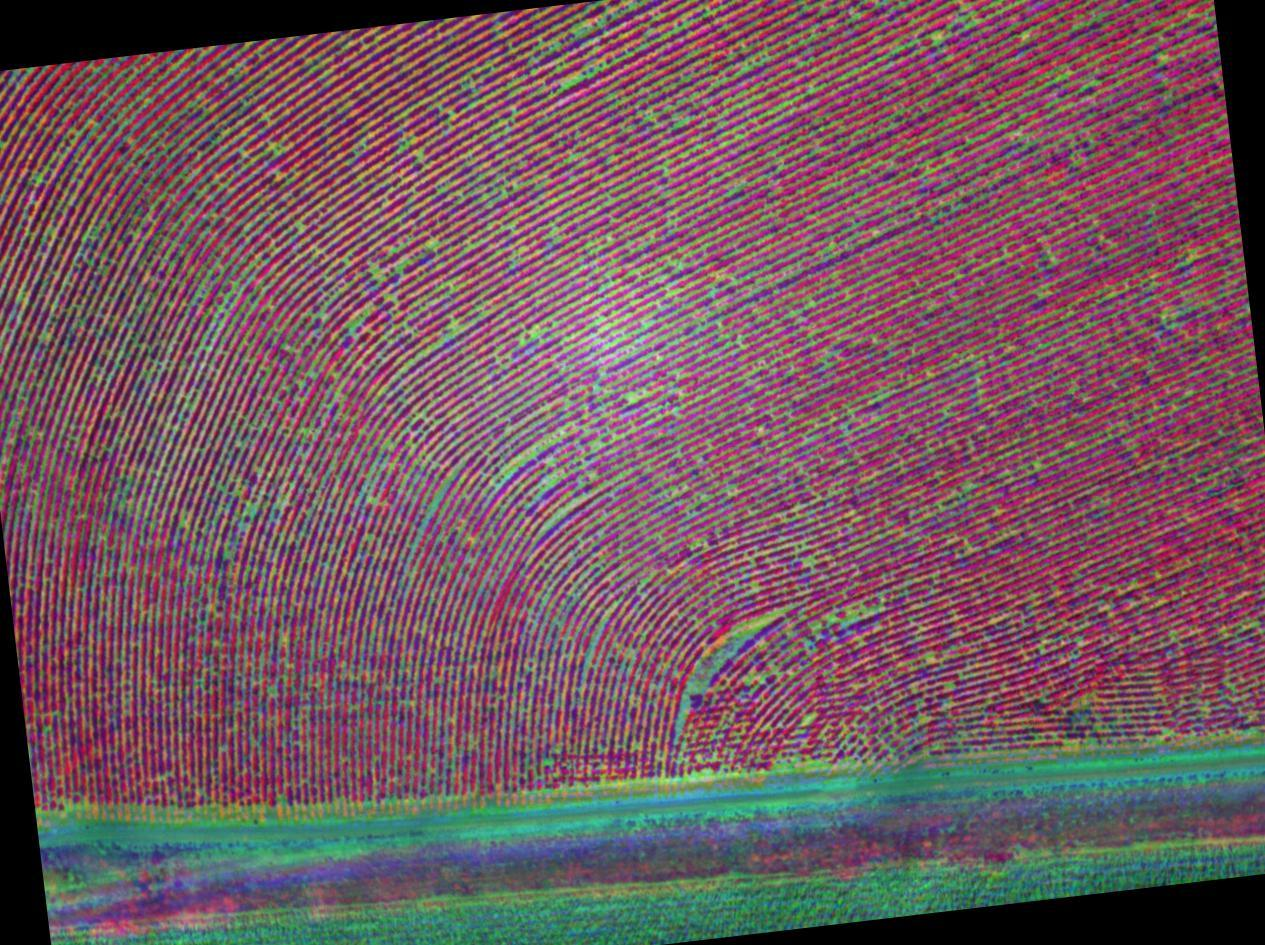dc: (68, 253, 184, 364), (131, 125, 221, 218), (668, 618, 758, 711), (406, 340, 499, 422), (578, 3, 700, 63), (406, 145, 484, 222)
